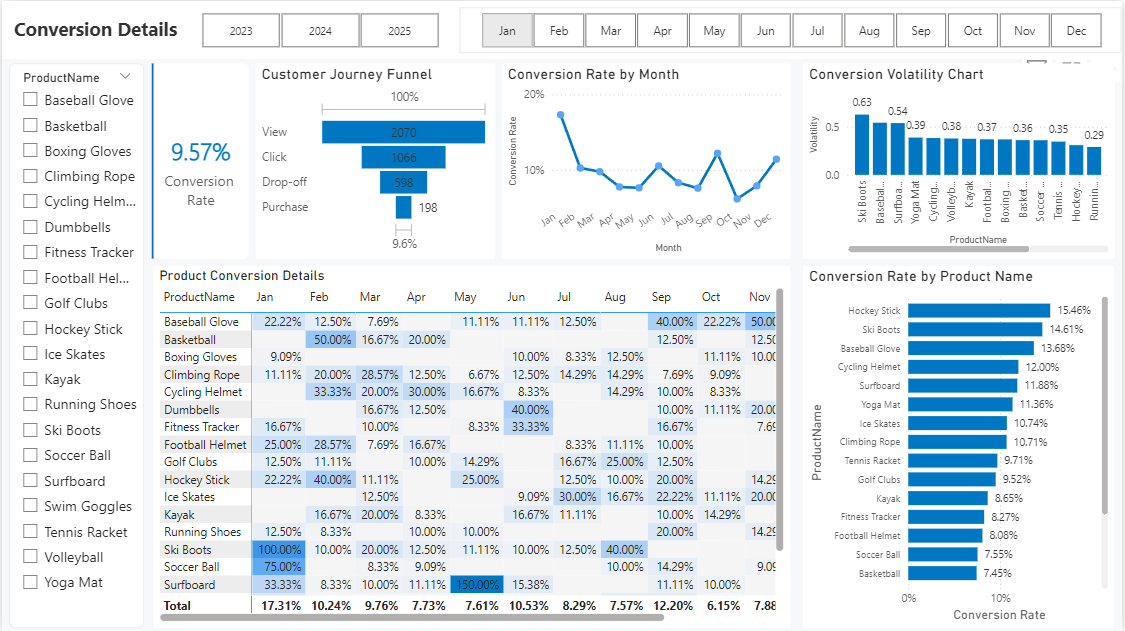

The dashboard page shown, as its layout file describes it:
{"tool":"powerbi","page":{"name":"Conversion Details","canvas":[1280,720],"ordinal":1},"visuals":[{"type":"textbox","box":[0,0,1280,66.2],"z":0},{"type":"slicer","fields":{"Values":["dim_products.ProductName"]},"box":[8.8,71.2,153.8,645],"z":1000},{"type":"card","fields":{"Values":["Calculations.Conversion Rate"]},"box":[172.2,71.1,108.9,223.3],"z":2000},{"type":"lineChart","title":"Conversion Rate by Month","fields":{"Y":["Calculations.Conversion Rate"],"Category":["Calendar.MonthNameShort"]},"box":[571.9,71.2,329.4,223.2],"z":3000},{"type":"clusteredBarChart","title":"Conversion Rate by Product Name","fields":{"Category":["dim_products.ProductName"],"Y":["Calculations.Conversion Rate"]},"box":[915.6,302.2,355.6,413.3],"z":4000},{"type":"shape","box":[17.1,71.4,310,222.9],"z":5000},{"type":"textbox","box":[8.8,11.2,208.8,45],"z":6000},{"type":"slicer","fields":{"Values":["Calendar.Year"]},"box":[202.5,7.5,320,52.5],"z":7000},{"type":"slicer","fields":{"Values":["Calendar.MonthNameShort"]},"box":[522.5,7.5,757.5,52.5],"z":8000},{"type":"pivotTable","title":"Product Conversion Details","fields":{"Rows":["dim_products.ProductName"],"Values":["Calculations.Conversion Rate"],"Columns":["Calendar.MonthNameShort"]},"box":[173.3,302.2,727.8,413.3],"z":9000},{"type":"funnel","title":"Customer Journey Funnel","fields":{"Y":["Calculations.Number of Customer Journeys"],"Category":["fact_customer_journey.Action"]},"box":[289.5,71.2,273.9,223.2],"z":10000},{"type":"clusteredColumnChart","title":"Conversion Volatility Chart","fields":{"Category":["dim_products.ProductName"],"Y":["Table.Conversion Volatility"]},"box":[915.7,71.4,355.7,222.9],"z":11000}]}

Visuals, with their boxes in screenshot pixels (x1, y1, x2, y2), scaled from the page's 1280x720 canvas onto the 1125x631 screenshot:
textbox: (0,0,1124,58)
slicer - dim_products.ProductName: (8,62,143,628)
card - Calculations.Conversion Rate: (151,62,247,258)
"Conversion Rate by Month" lineChart: (503,62,792,258)
"Conversion Rate by Product Name" clusteredBarChart: (805,265,1117,627)
shape: (15,63,287,258)
textbox: (8,10,191,49)
slicer - Calendar.Year: (178,7,459,53)
slicer - Calendar.MonthNameShort: (459,7,1124,53)
"Product Conversion Details" pivotTable: (152,265,792,627)
"Customer Journey Funnel" funnel: (254,62,495,258)
"Conversion Volatility Chart" clusteredColumnChart: (805,63,1117,258)
